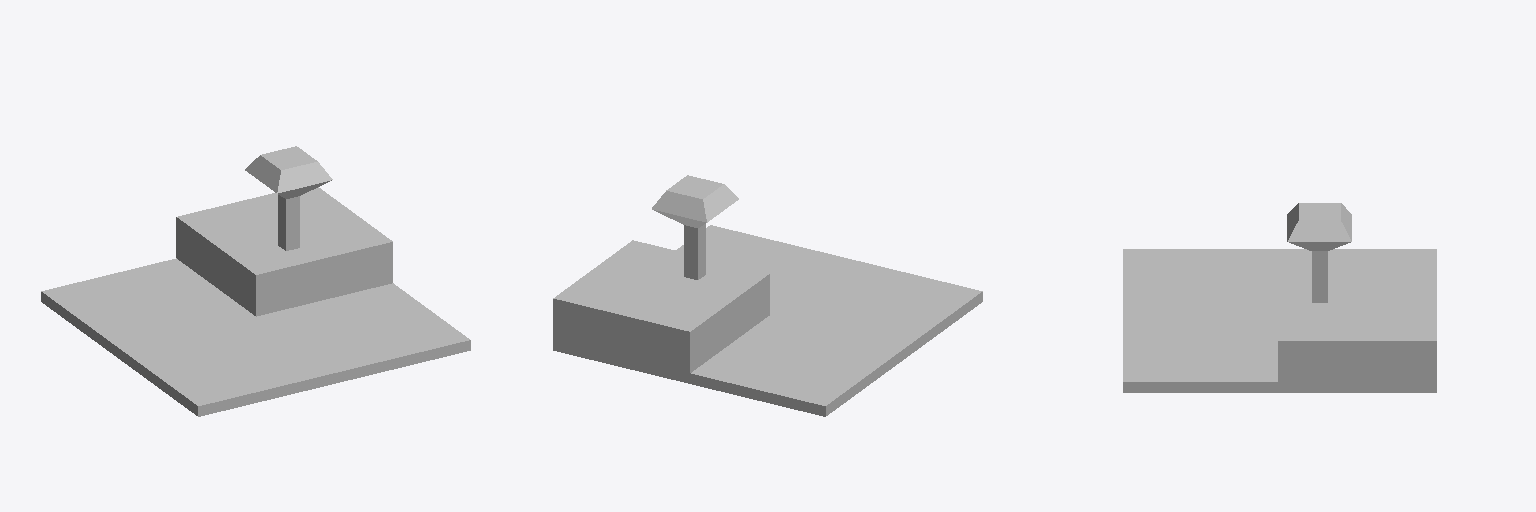
The model's file is level02.obj.
3 views of the same model, side by side, from view 1: azimuth 30°, elevation 25°; view 2: azimuth 150°, elevation 25°; view 3: azimuth 270°, elevation 25° (orthographic).
Parts seen in each view (by area): view 1: Cube.013_Cube.014, Cube.000_Cube.001; view 2: Cube.013_Cube.014, Cube.000_Cube.001; view 3: Cube.013_Cube.014, Cube.000_Cube.001.
Boxes of the visible parts, <box> form: Cube.013_Cube.014: <box>41,187,470,416</box>; Cube.000_Cube.001: <box>245,146,332,250</box>; Cube.013_Cube.014: <box>553,225,982,416</box>; Cube.000_Cube.001: <box>652,175,738,279</box>; Cube.013_Cube.014: <box>1123,249,1436,392</box>; Cube.000_Cube.001: <box>1287,203,1351,302</box>.
Bounding box in the file's own units: 43.09 × 21.27 × 43.09.